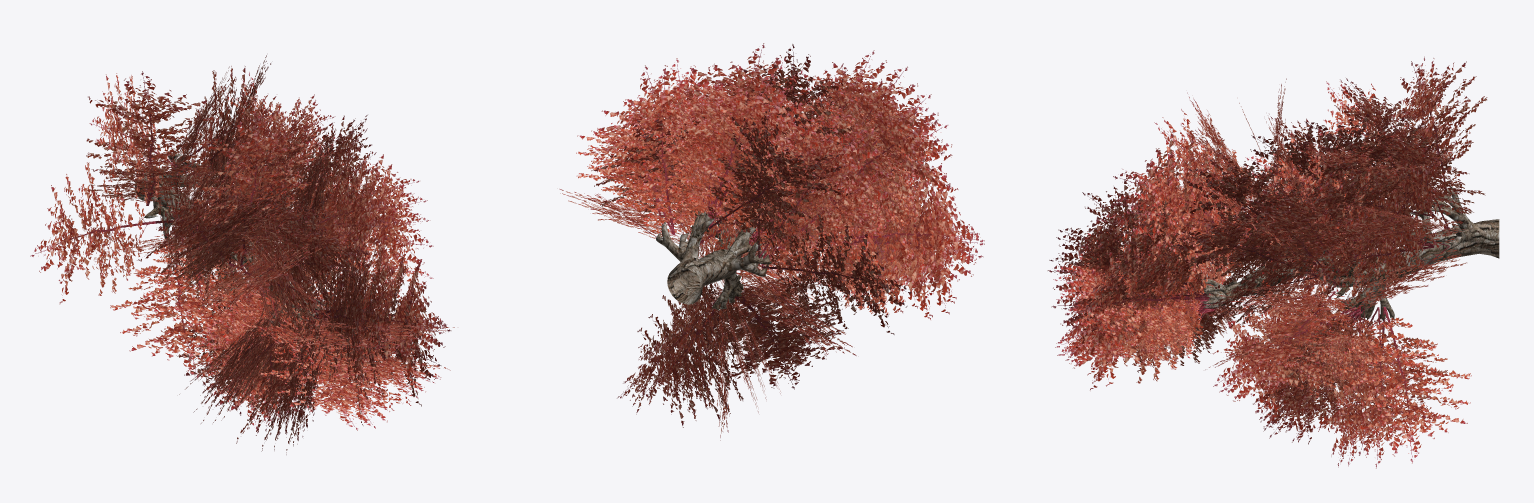
The model's file is ornate tree.dae.
3 views of the same model, side by side, from view 1: azimuth 30°, elevation 25°; view 2: azimuth 150°, elevation 25°; view 3: azimuth 270°, elevation 25° (orthographic). The views are drawn at different scales.
Parts seen in each view (by area): view 1: group_1, group; view 2: group_1, group; view 3: group_1, group.
Boxes of the visible parts, x1,y1,x2,y2 form: group_1: (30, 55, 454, 454); group: (135, 154, 327, 328); group_1: (559, 43, 984, 440); group: (656, 208, 824, 310); group_1: (1047, 56, 1487, 468); group: (1201, 186, 1499, 320).
Size of the model in its own units: 4.38 by 4.38 by 4.59.
Materials: 2 (2 with a texture image).
